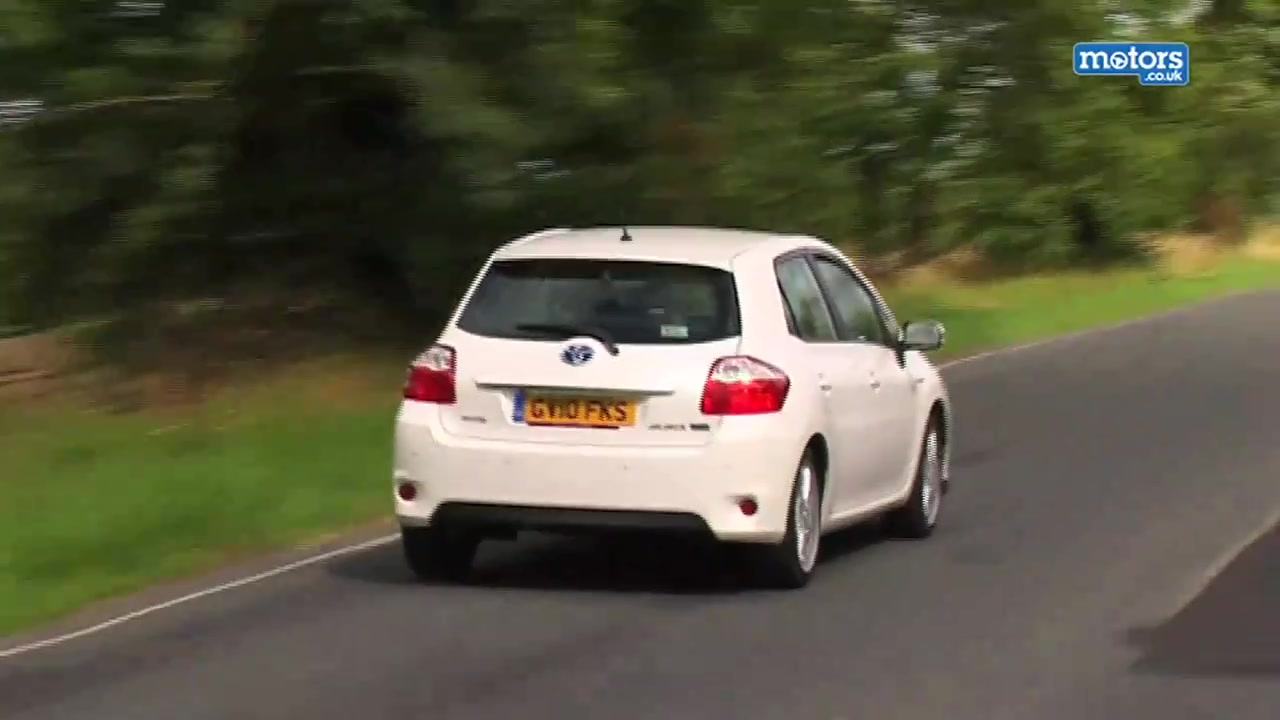car: (395, 214, 957, 583)
